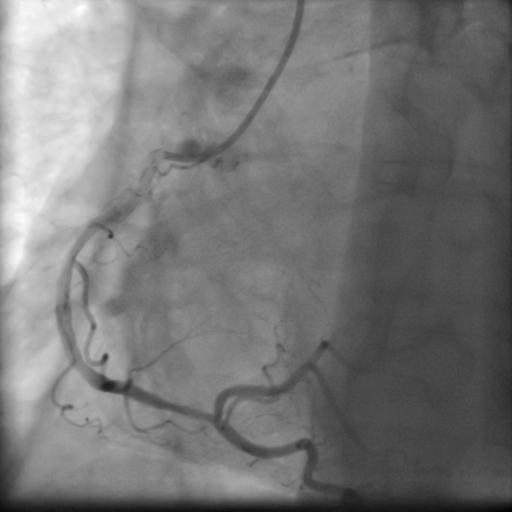Stenosis: (157, 392, 211, 428)
